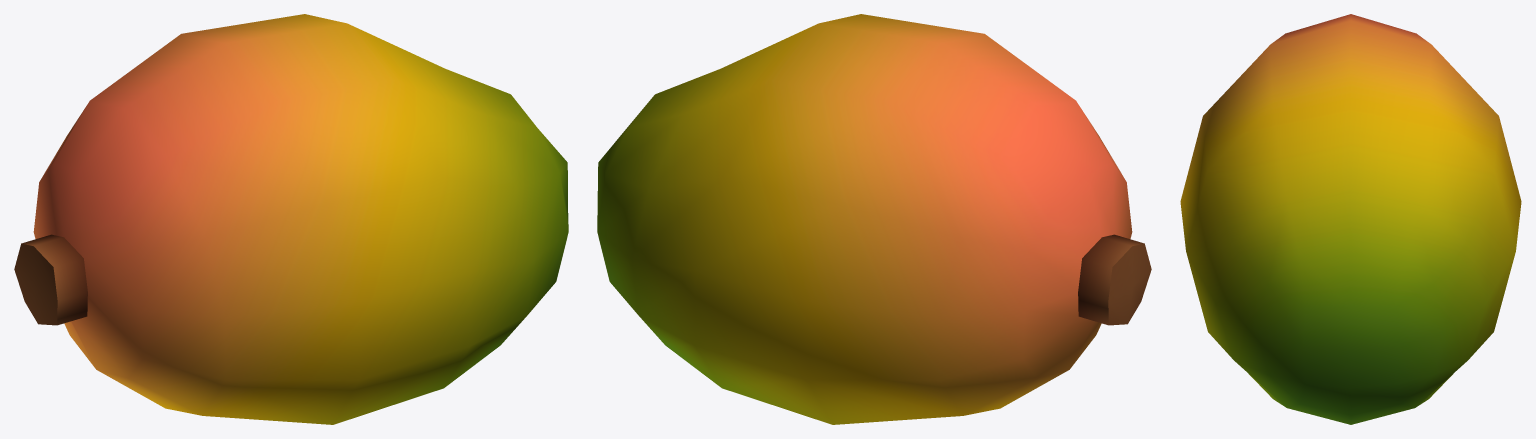
File: Mango_02.glb
3 views of the same model, side by side, from view 1: azimuth 30°, elevation 25°; view 2: azimuth 150°, elevation 25°; view 3: azimuth 270°, elevation 25° (orthographic). The views are drawn at different scales.
Visible parts, largest first — view 1: Mango_02; view 2: Mango_02; view 3: Mango_02.
Part boxes in pixels (left/top/right/bottom): Mango_02: left=14, top=14, right=568, bottom=424; Mango_02: left=597, top=14, right=1151, bottom=424; Mango_02: left=1180, top=14, right=1521, bottom=424.
Bounding box in the file's own units: 0.3044 × 0.2196 × 0.2033.
Materials: 1 (1 with a texture image).
